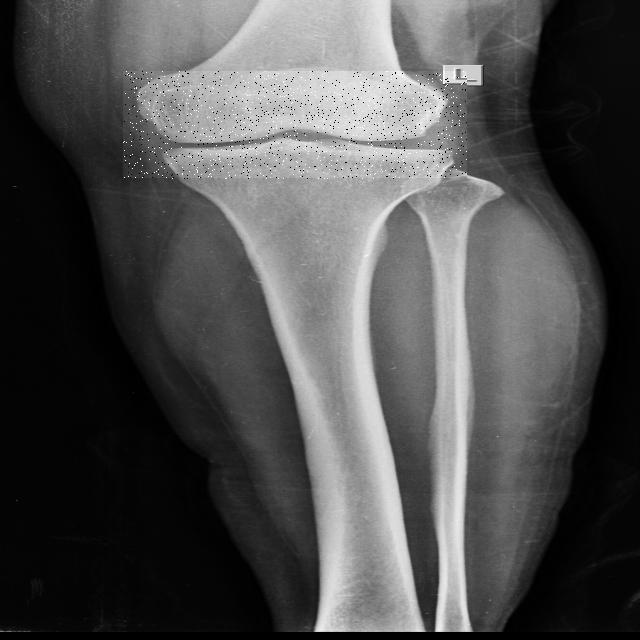normal: (123, 72, 467, 180)
